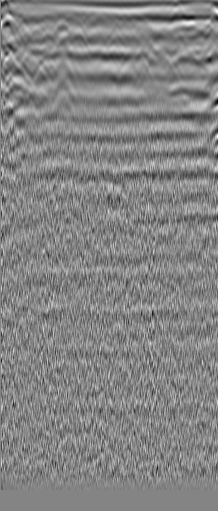오수: (39, 32, 59, 52)
우수: (170, 32, 190, 52)
